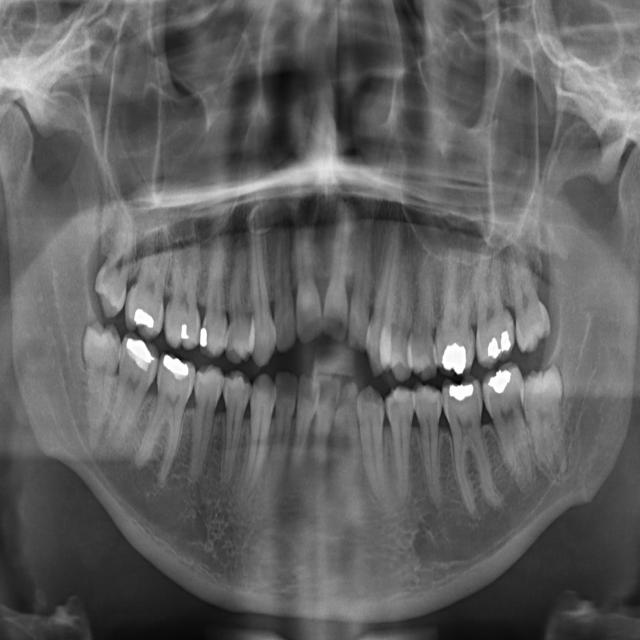AmalgamRestoration: (122, 333, 155, 368), (439, 342, 472, 376), (488, 325, 513, 358), (163, 353, 190, 382), (447, 382, 476, 406), (488, 369, 510, 399), (134, 305, 157, 328), (200, 327, 211, 349), (180, 314, 188, 341)
Crown: (202, 314, 210, 338)
ImpactedTooth: (524, 356, 568, 477), (80, 317, 116, 447)
